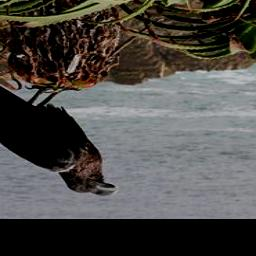Crow: (0, 70, 123, 198)
